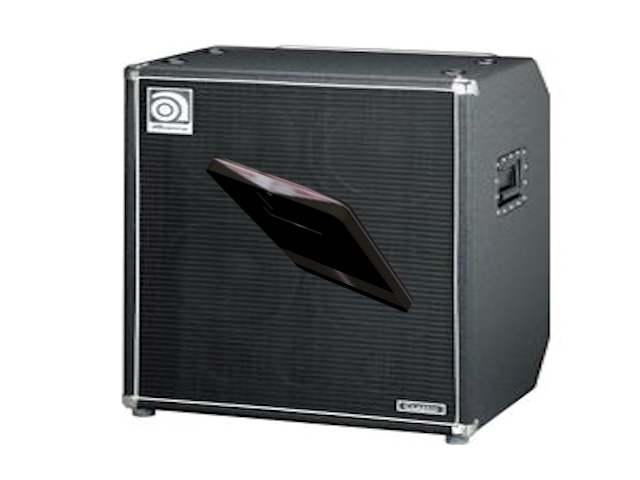calculator: (201, 145, 416, 320)
